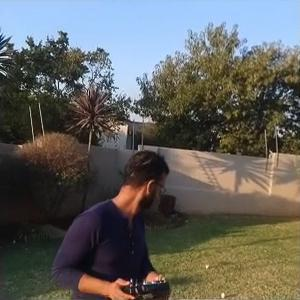follow: (44, 146, 171, 299)
